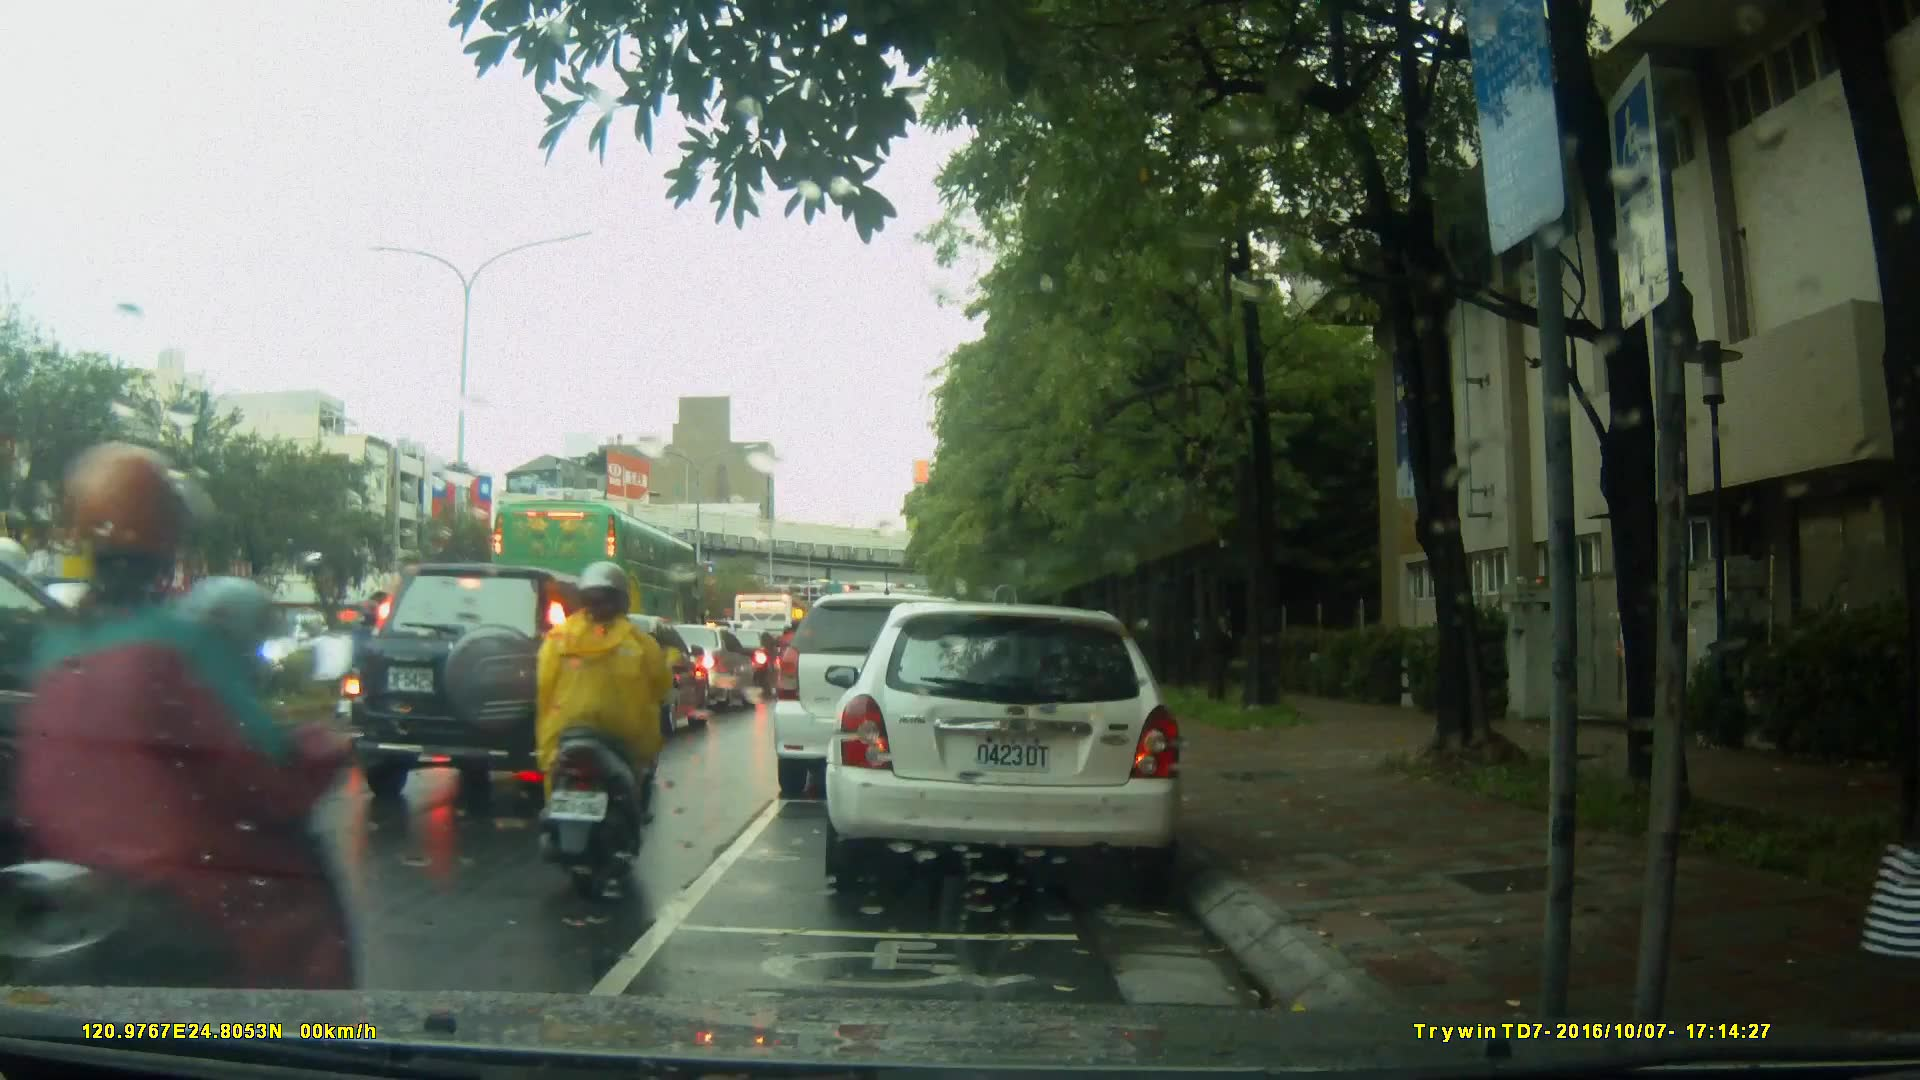pedestrian: (1854, 445, 1920, 984)
rider: (1, 435, 362, 1070), (533, 557, 680, 895), (776, 612, 809, 705)
vehicle: (1, 541, 254, 988), (831, 592, 1196, 897), (366, 559, 642, 812), (770, 592, 999, 801), (493, 497, 704, 659), (637, 624, 759, 713)
